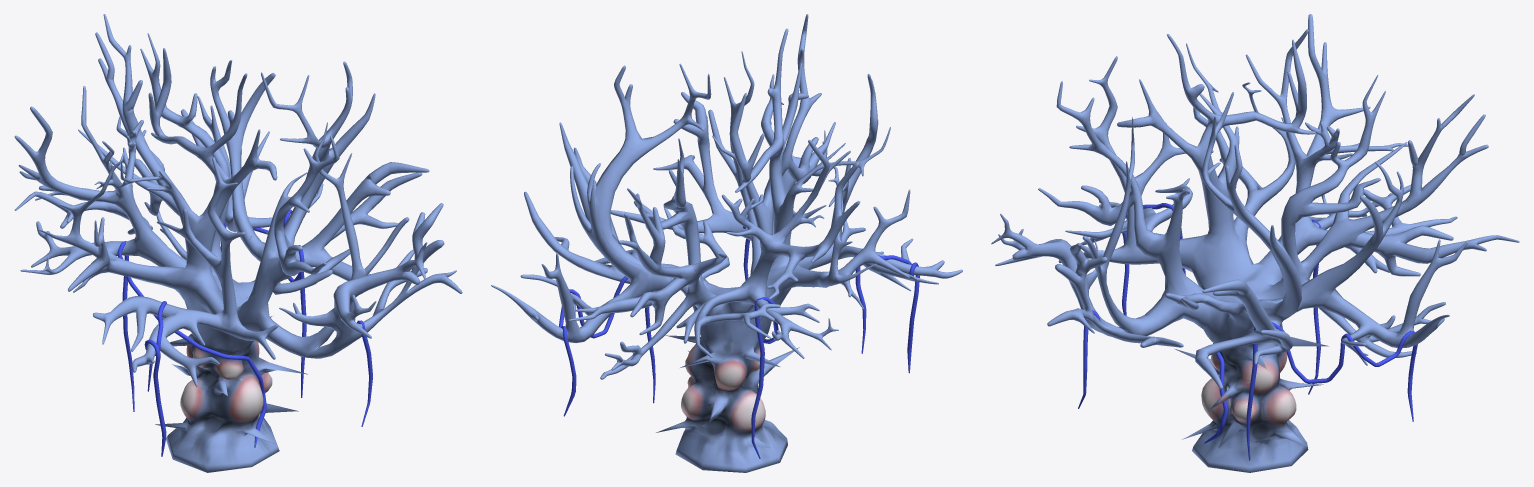
File: trees_5_w_vines.fbx
The picture shows the model from 3 angles, left to right: view 1: azimuth 30°, elevation 25°; view 2: azimuth 150°, elevation 25°; view 3: azimuth 270°, elevation 25°; orthographic projection. The views are drawn at different scales.
Visible parts, largest first — view 1: tree 5.001, type 5; view 2: tree 5.001, type 5; view 3: tree 5.001, type 5.
Boxes of the visible parts, x1,y1,x2,y2 form: tree 5.001: (14,14,462,472); type 5: (117,209,372,456); tree 5.001: (491,14,962,472); type 5: (559,217,919,458); tree 5.001: (991,14,1519,472); type 5: (1078,203,1417,460).
Bounding box in the file's own units: 819 × 851 × 991.
